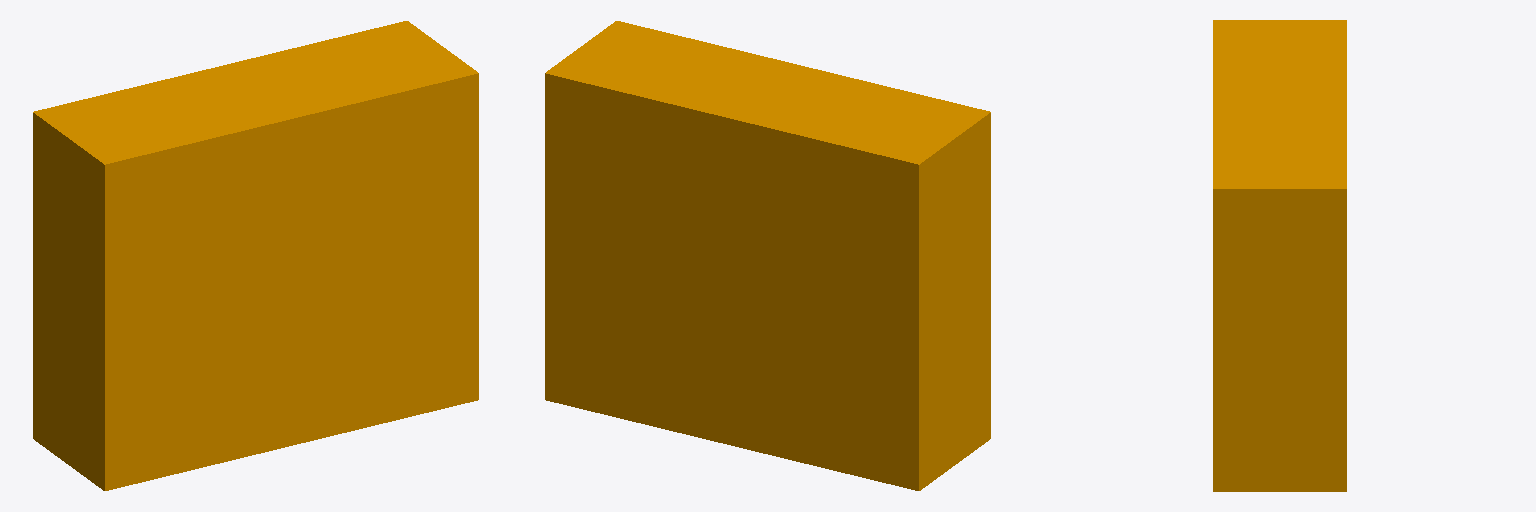
The robot description file, URDF, robot "simple_box":
 <robot name="simple_box">
  <link name="my_box">
    <inertial>
      <origin xyz="0 0 0" />
      <mass value="1.0" />
      <inertia  ixx="1.0" ixy="0.0"  ixz="0.0"  iyy="100.0"  iyz="0.0"  izz="1.0" />
    </inertial>
    <visual>
      <origin xyz="0 0 0"/>
      <geometry>
        <box size="0.3 0.1 0.25" />
      </geometry>
    </visual>
    <collision>
      <origin xyz="0 0 0"/>
      <geometry>
        <box size="0.3 0.1 0.25" />
      </geometry>
    </collision>
  </link>
  <gazebo reference="my_box">
    <material>Gazebo/Orange</material>
  </gazebo>
  <gazebo>
    <static>true</static>
  </gazebo>
</robot>

--- Render facts (derived) ---
3 views of the same robot in one strip: view 1: azimuth 30°, elevation 25°; view 2: azimuth 150°, elevation 25°; view 3: azimuth 270°, elevation 25° (orthographic).
Model simple_box with 1 links and 0 joints (none), rooted at my_box, posed every joint at zero.
Links seen in each view (by area): view 1: my_box; view 2: my_box; view 3: my_box.
Boxes of the visible links, left/top/right/bottom form: my_box: left=33, top=21, right=478, bottom=490; my_box: left=545, top=21, right=990, bottom=490; my_box: left=1213, top=20, right=1346, bottom=491.
Bounding box of the posed robot: 0.3 × 0.1 × 0.25 m (x, y, z).
Geometry: primitives only (box / cylinder / sphere), no mesh files.
